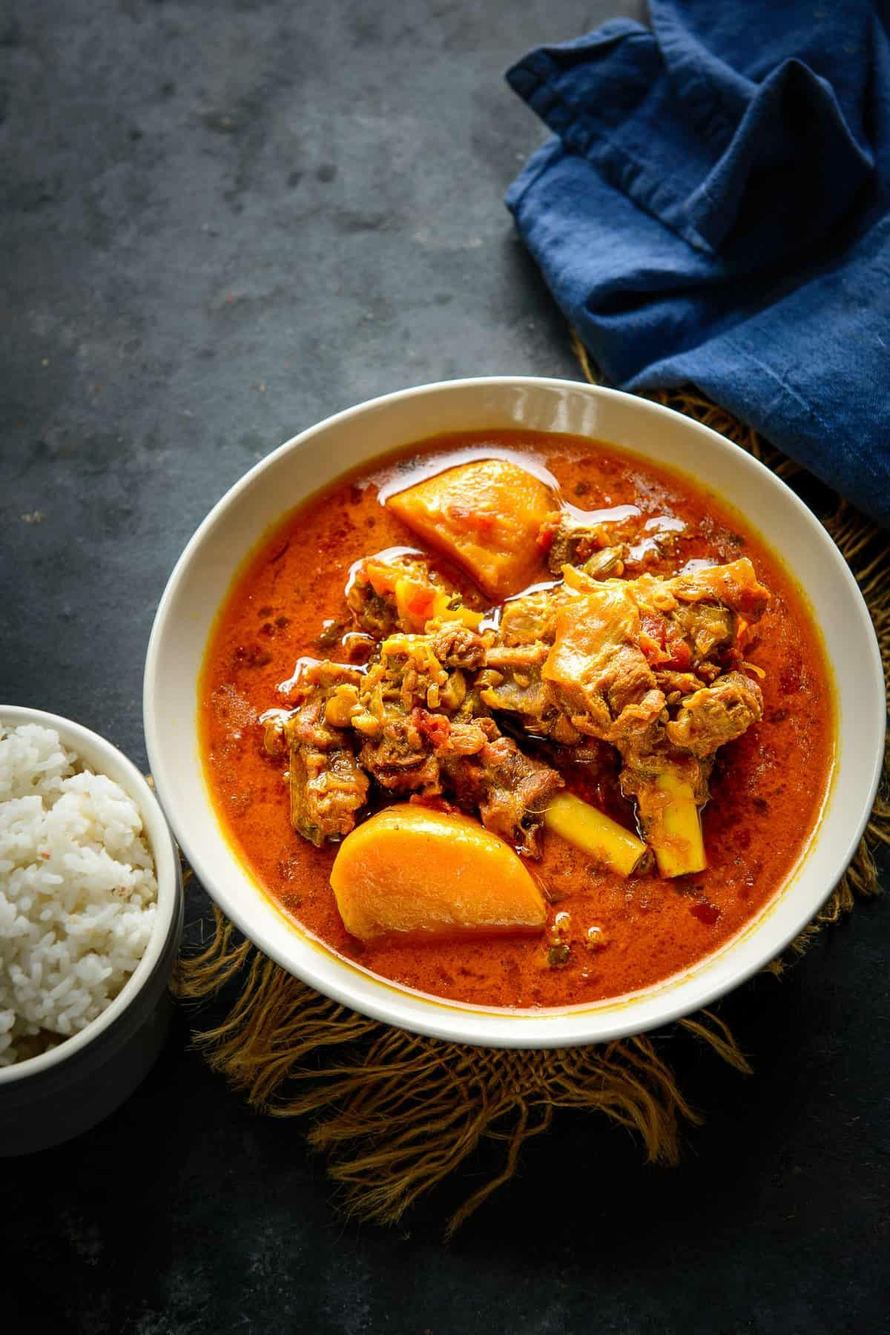MuttonCurry: (199, 431, 832, 1004)
